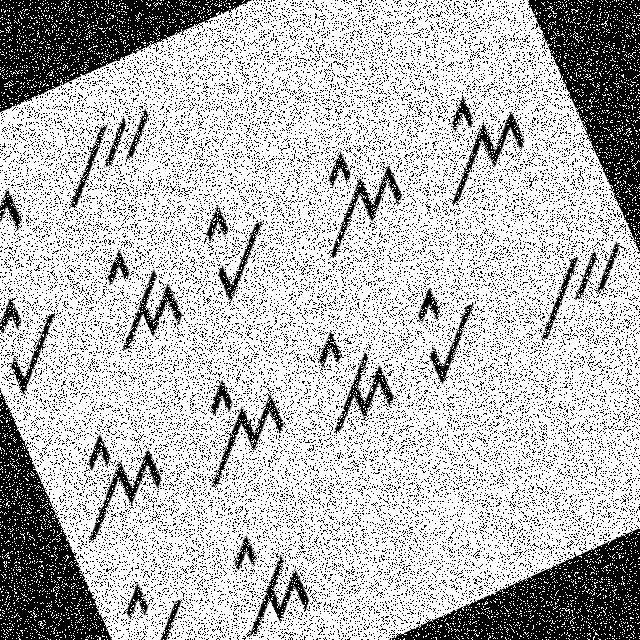di: (286, 312, 404, 442), (197, 518, 321, 639), (84, 232, 192, 353), (0, 135, 34, 264)
ni: (42, 407, 190, 555), (403, 71, 548, 214), (288, 130, 424, 270), (170, 357, 306, 492)
pi: (392, 266, 502, 391), (176, 190, 289, 309), (0, 280, 83, 399), (103, 560, 214, 639)
